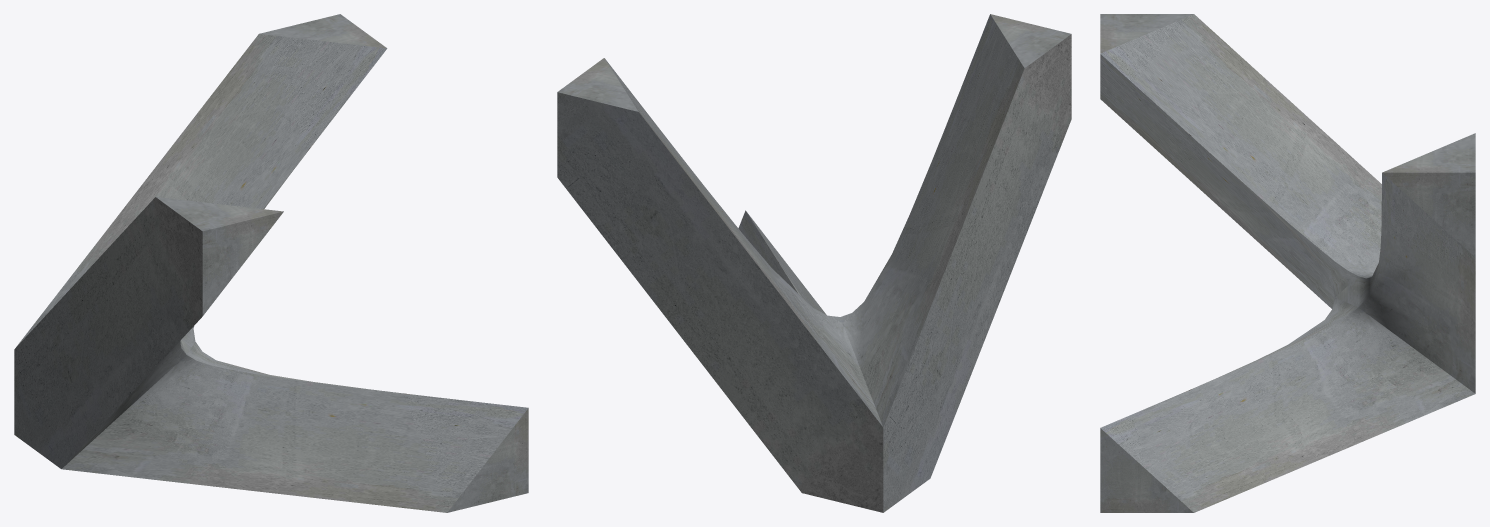
The model's file is module_Q3.fbx.
The picture shows the model from 3 angles, left to right: view 1: azimuth 30°, elevation 25°; view 2: azimuth 150°, elevation 25°; view 3: azimuth 270°, elevation 25°; orthographic projection.
Parts seen in each view (by area): view 1: modules; view 2: modules; view 3: modules.
Boxes of the visible parts, bbox=[...] form: modules: bbox=[14, 14, 528, 512]; modules: bbox=[557, 14, 1071, 512]; modules: bbox=[1100, 14, 1475, 512].
Size of the model in its own units: 1000 by 1000 by 1000.
1 material, 1 textured.
